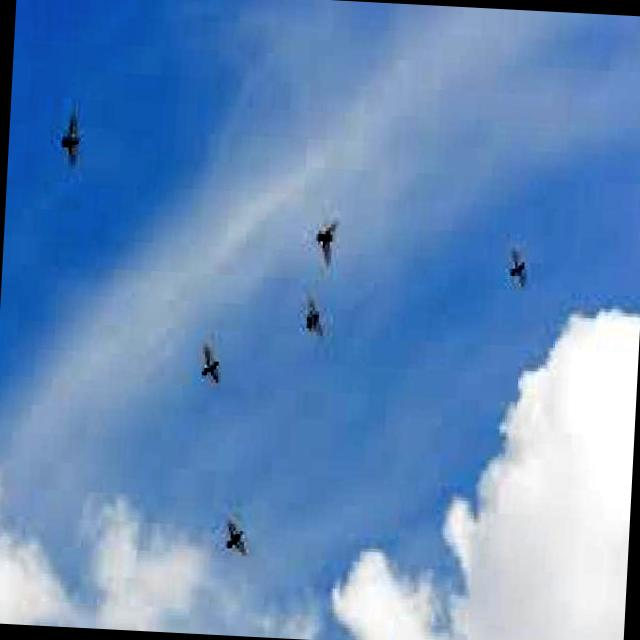bird: (50, 102, 101, 183), (192, 334, 244, 403), (499, 232, 542, 300), (206, 514, 256, 565), (293, 287, 332, 345), (311, 215, 346, 268)
